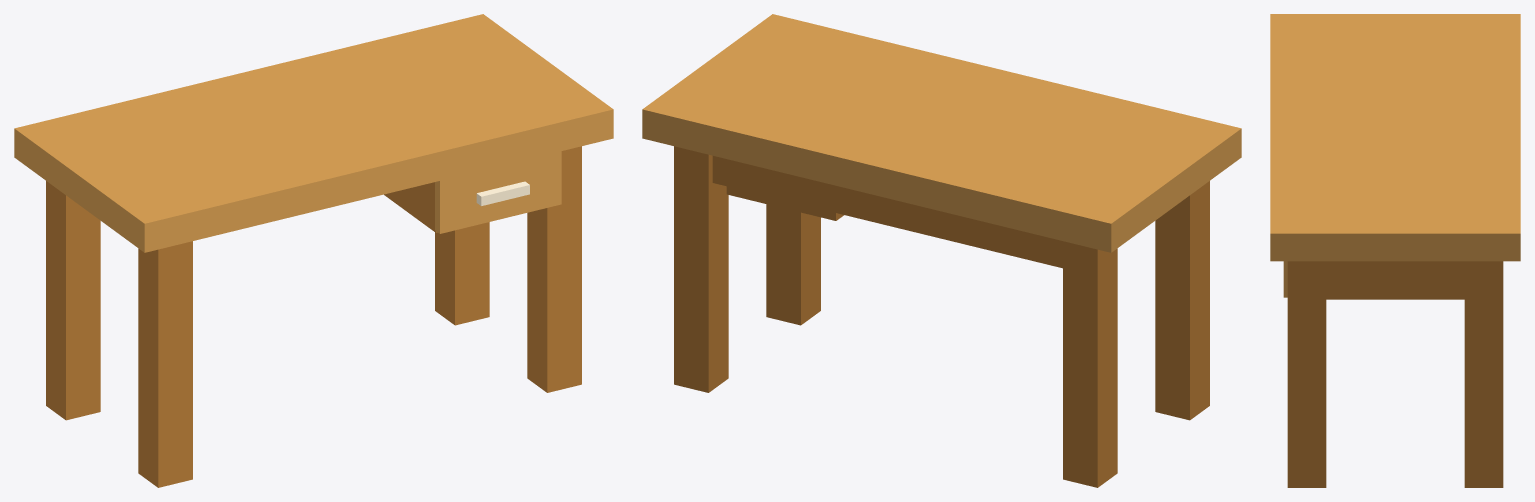
The model's file is 15-desk.glb.
3 renders of one model, left to right at view 1: azimuth 30°, elevation 25°; view 2: azimuth 150°, elevation 25°; view 3: azimuth 270°, elevation 25°, orthographic. The views are drawn at different scales.
Parts seen in each view (by area): view 1: 15-desk__Top, 15-desk__Leg_-0.6_-0.2, 15-desk__Leg_-0.6_0.2, 15-desk__Leg_0.6_-0.2, 15-desk__DrawerFront, 15-desk__Leg_0.6_0.2, 15-desk__Drawer, 15-desk__Handle; view 2: 15-desk__Top, 15-desk__Leg_-0.6_0.2, 15-desk__Leg_0.6_0.2, 15-desk__Leg_-0.6_-0.2, 15-desk__Apron, 15-desk__Leg_0.6_-0.2, 15-desk__Drawer; view 3: 15-desk__Top, 15-desk__Leg_0.6_0.2, 15-desk__Leg_0.6_-0.2, 15-desk__Drawer.
Boxes of the visible parts, x1,y1,x2,y2 form: 15-desk__Top: [14, 14, 613, 252]; 15-desk__Leg_-0.6_-0.2: [138, 241, 192, 487]; 15-desk__Leg_-0.6_0.2: [46, 181, 100, 420]; 15-desk__Leg_0.6_-0.2: [527, 146, 581, 392]; 15-desk__DrawerFront: [435, 151, 561, 233]; 15-desk__Leg_0.6_0.2: [435, 222, 489, 325]; 15-desk__Drawer: [384, 182, 437, 232]; 15-desk__Handle: [476, 181, 529, 205]; 15-desk__Top: [642, 14, 1241, 252]; 15-desk__Leg_-0.6_0.2: [1063, 241, 1117, 487]; 15-desk__Leg_0.6_0.2: [674, 146, 728, 392]; 15-desk__Leg_-0.6_-0.2: [1155, 181, 1209, 420]; 15-desk__Apron: [712, 156, 1062, 268]; 15-desk__Leg_0.6_-0.2: [766, 204, 820, 325]; 15-desk__Drawer: [726, 186, 843, 220]; 15-desk__Top: [1270, 14, 1520, 261]; 15-desk__Leg_0.6_0.2: [1464, 261, 1503, 487]; 15-desk__Leg_0.6_-0.2: [1287, 261, 1326, 487]; 15-desk__Drawer: [1326, 261, 1464, 299].
Bounding box in the file's own units: 1.35 × 0.76 × 0.65.
